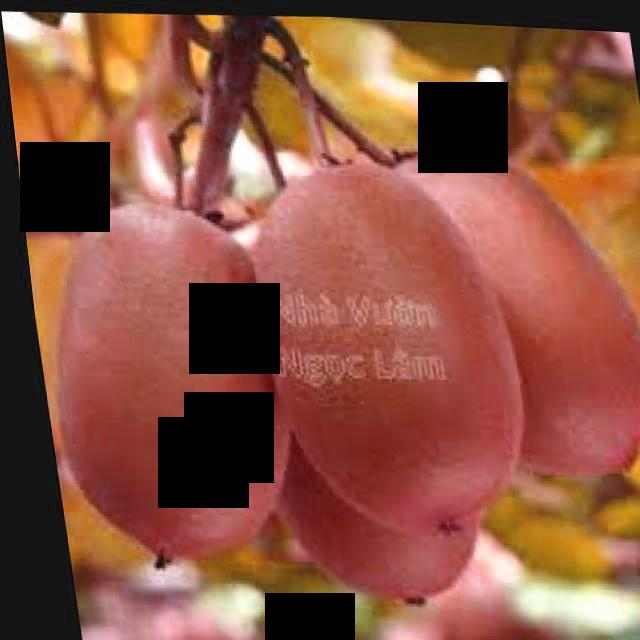kiwi: (230, 150, 529, 542), (18, 189, 300, 571), (342, 126, 640, 481), (238, 288, 477, 602)
